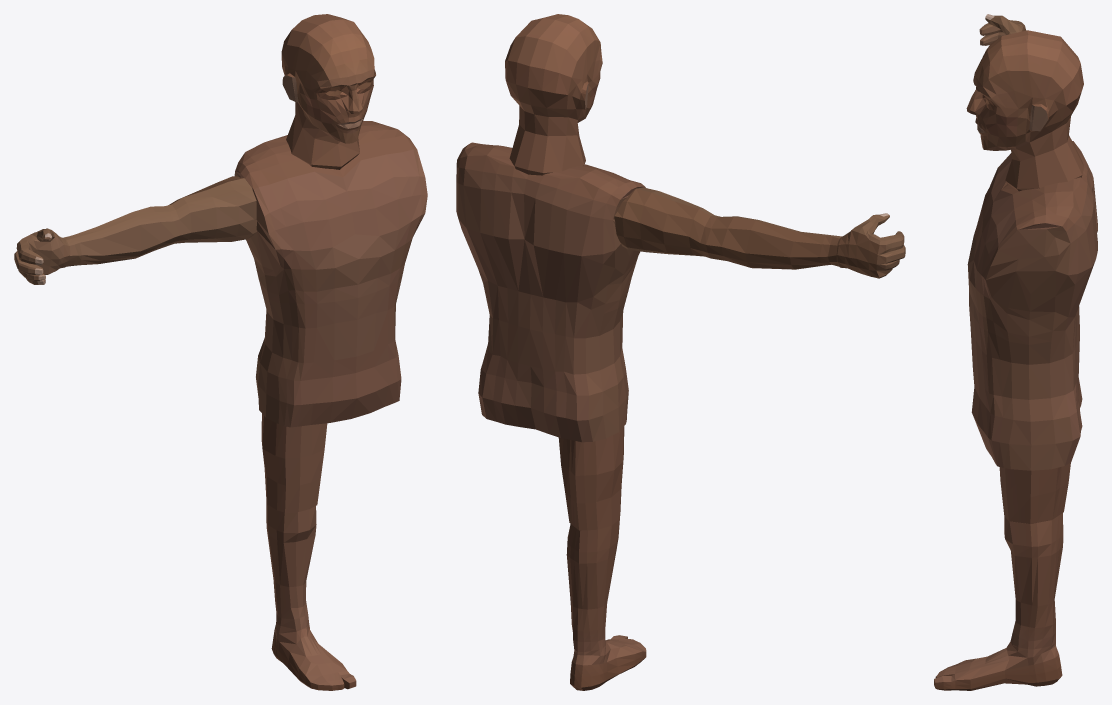
File: baseSkinToneLightDark.glb
3 views of the same model, side by side, from view 1: azimuth 30°, elevation 25°; view 2: azimuth 150°, elevation 25°; view 3: azimuth 270°, elevation 25° (orthographic). The views are drawn at different scales.
Parts seen in each view (by area): view 1: nakedTorsoSkinToneLightDark, nakedFaceSkinToneLightDark, nakedUpperLegSkinToneLightDark, nakedLowerLegSkinToneLightDark, nakedUpperArmSkinToneLightDark, nakedLowerArmSkinToneLightDark, nakedFootSkinToneLightDark, nakedHandArmSkinToneLightDark; view 2: nakedTorsoSkinToneLightDark, nakedFaceSkinToneLightDark, nakedLowerArmSkinToneLightDark, nakedUpperArmSkinToneLightDark, nakedUpperLegSkinToneLightDark, nakedLowerLegSkinToneLightDark, nakedHandArmSkinToneLightDark, nakedFootSkinToneLightDark; view 3: nakedTorsoSkinToneLightDark, nakedFaceSkinToneLightDark, nakedLowerLegSkinToneLightDark, nakedFootSkinToneLightDark, nakedUpperLegSkinToneLightDark, nakedHandArmSkinToneLightDark.
Boxes of the visible parts, <box> form: nakedTorsoSkinToneLightDark: <box>234,120,427,427</box>; nakedFaceSkinToneLightDark: <box>281,14,375,169</box>; nakedUpperLegSkinToneLightDark: <box>261,414,327,512</box>; nakedLowerLegSkinToneLightDark: <box>266,499,316,629</box>; nakedUpperArmSkinToneLightDark: <box>165,176,256,245</box>; nakedLowerArmSkinToneLightDark: <box>62,206,174,266</box>; nakedFootSkinToneLightDark: <box>271,622,356,690</box>; nakedHandArmSkinToneLightDark: <box>14,228,70,284</box>; nakedTorsoSkinToneLightDark: <box>456,142,645,442</box>; nakedFaceSkinToneLightDark: <box>505,14,602,175</box>; nakedLowerArmSkinToneLightDark: <box>706,216,841,269</box>; nakedUpperArmSkinToneLightDark: <box>614,187,720,258</box>; nakedUpperLegSkinToneLightDark: <box>558,426,624,530</box>; nakedLowerLegSkinToneLightDark: <box>566,518,619,652</box>; nakedHandArmSkinToneLightDark: <box>836,213,905,278</box>; nakedFootSkinToneLightDark: <box>570,635,646,690</box>; nakedTorsoSkinToneLightDark: <box>967,141,1097,470</box>; nakedFaceSkinToneLightDark: <box>966,30,1084,191</box>; nakedLowerLegSkinToneLightDark: <box>1004,513,1063,649</box>; nakedFootSkinToneLightDark: <box>934,641,1062,690</box>; nakedUpperLegSkinToneLightDark: <box>999,462,1070,524</box>; nakedHandArmSkinToneLightDark: <box>979,14,1025,52</box>.
Size of the model in its own units: 1.31 by 1.94 by 0.4338.
